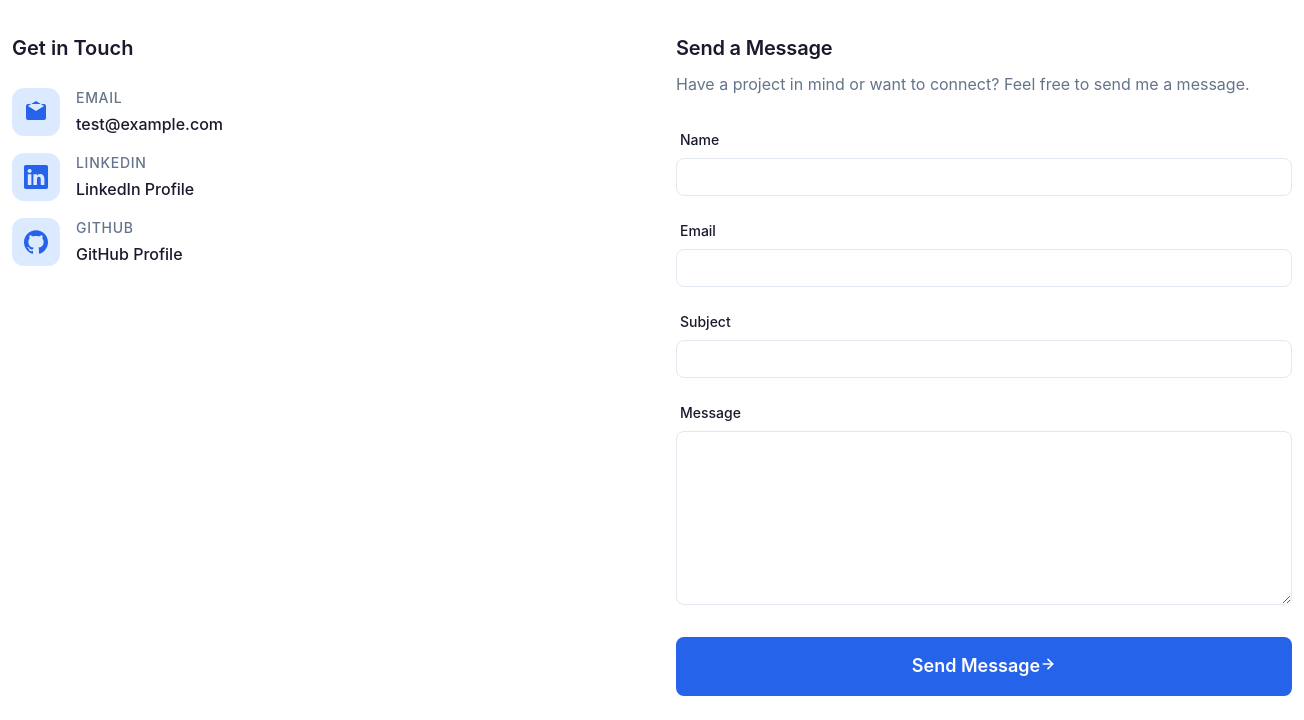
Test: Contact page › shows validation errors for empty required fields
(page scrolled)
Click the button "Send Message" at (984, 666), box [676,637,1292,696]
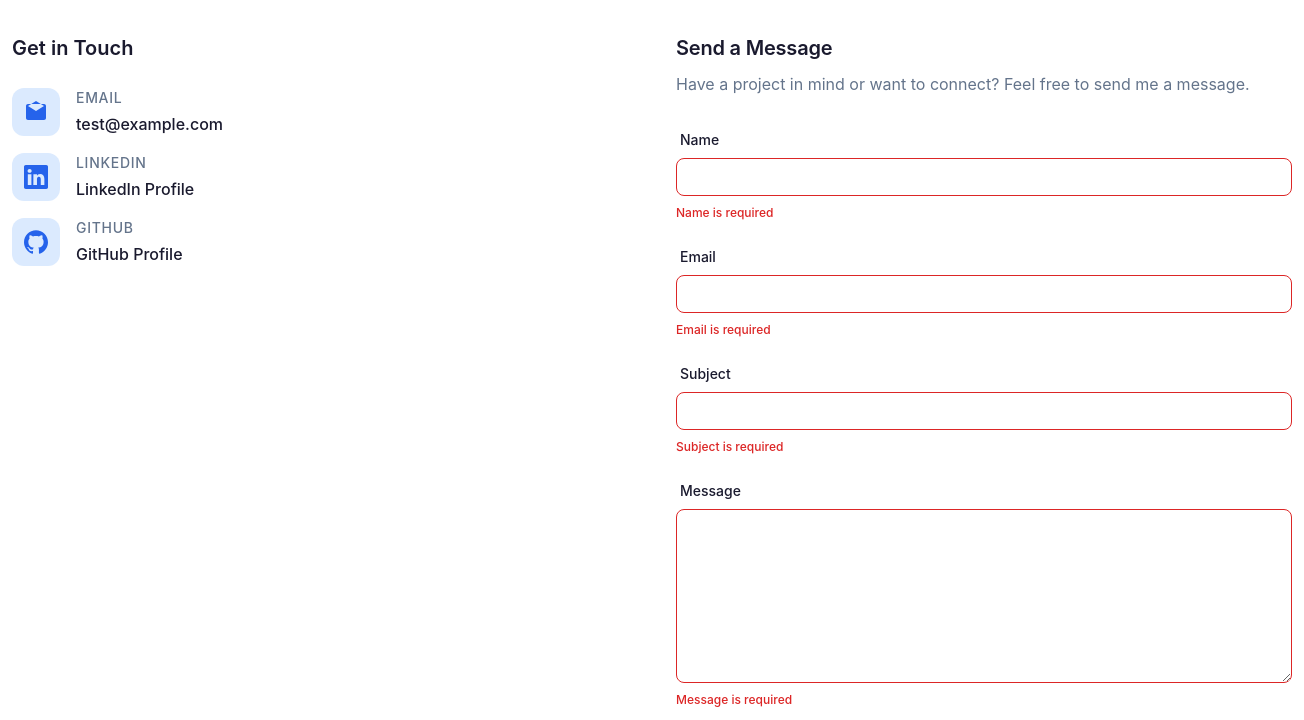
Now the text "Name is required" is shown, box [676,205,774,220]
Now the text "Email is required" is shown, box [676,322,771,337]
Now the text "Subject is required" is shown, box [676,439,783,454]
